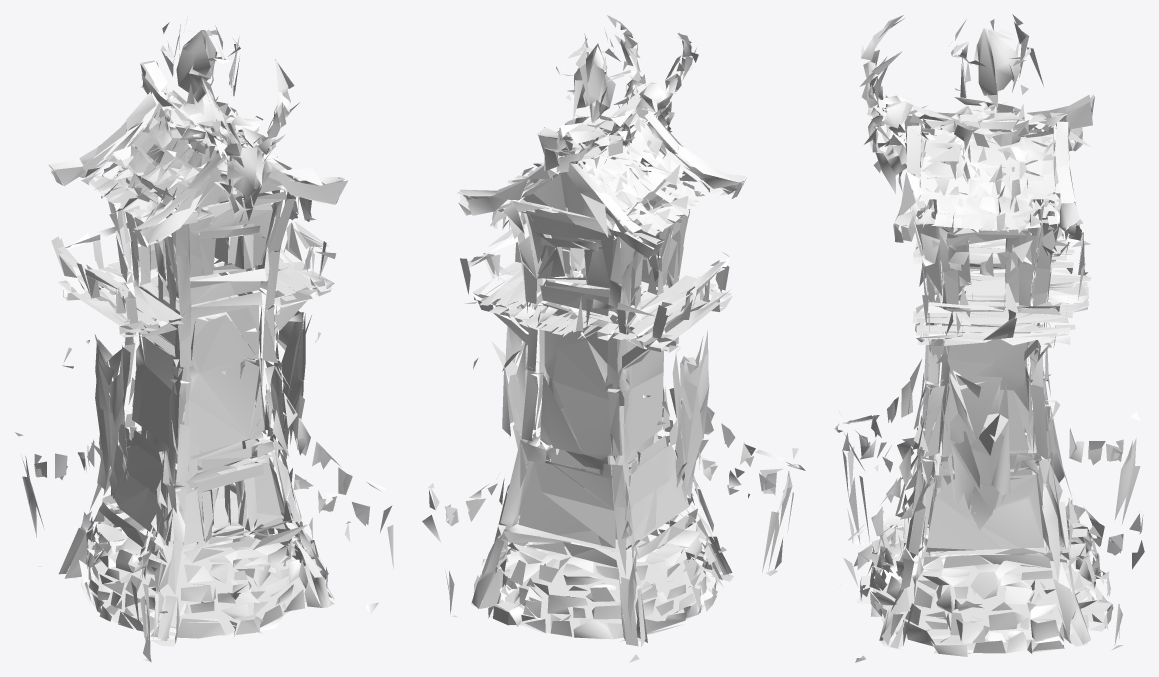
Rendered from shaman_tower_lod2.glb.
3 renders of one model, left to right at view 1: azimuth 30°, elevation 25°; view 2: azimuth 150°, elevation 25°; view 3: azimuth 270°, elevation 25°, orthographic. The views are drawn at different scales.
Visible parts, largest first — view 1: shaman_tower; view 2: shaman_tower; view 3: shaman_tower.
Boxes of the visible parts, bbox=[...] form: shaman_tower: bbox=[15, 19, 393, 662]; shaman_tower: bbox=[422, 15, 805, 662]; shaman_tower: bbox=[834, 14, 1144, 662].
Size of the model in its own units: 8.64 by 18.18 by 8.61.
1 material, 1 textured.
